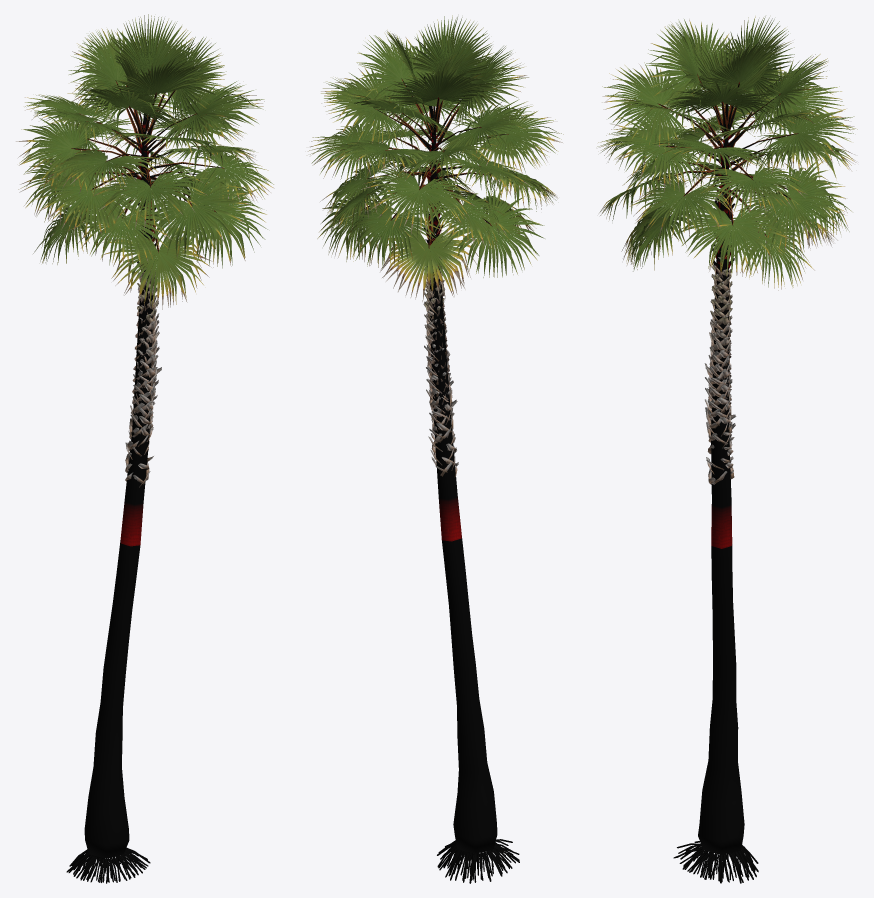
Rendered from palm_fan_far.glb.
3 views of the same model, side by side, from view 1: azimuth 30°, elevation 25°; view 2: azimuth 150°, elevation 25°; view 3: azimuth 270°, elevation 25° (orthographic). The views are drawn at different scales.
Visible parts, largest first — view 1: Washingtonia_robusta_HD_V2; view 2: Washingtonia_robusta_HD_V2; view 3: Washingtonia_robusta_HD_V2.
Part boxes in pixels (bbox=[...]): Washingtonia_robusta_HD_V2: bbox=[16, 14, 274, 883]; Washingtonia_robusta_HD_V2: bbox=[308, 15, 563, 883]; Washingtonia_robusta_HD_V2: bbox=[597, 16, 857, 883].
Bounding box in the file's own units: 3.92 × 14.04 × 3.89.
15 materials, 15 textured.
